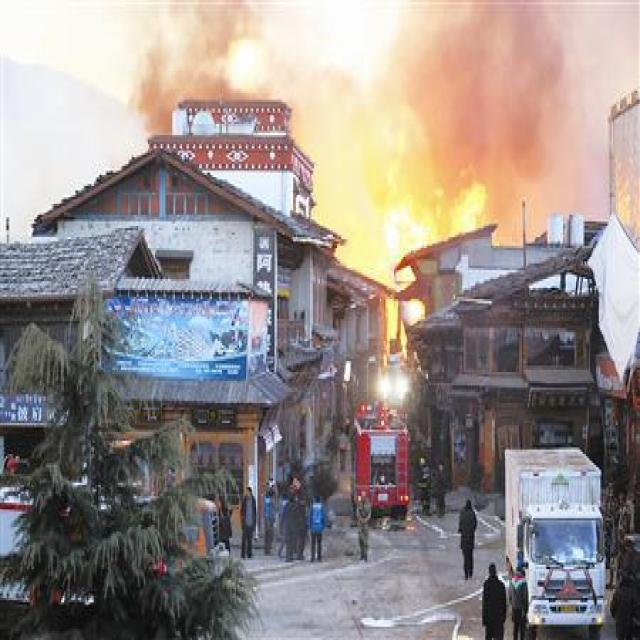fire: (372, 137, 480, 309)
